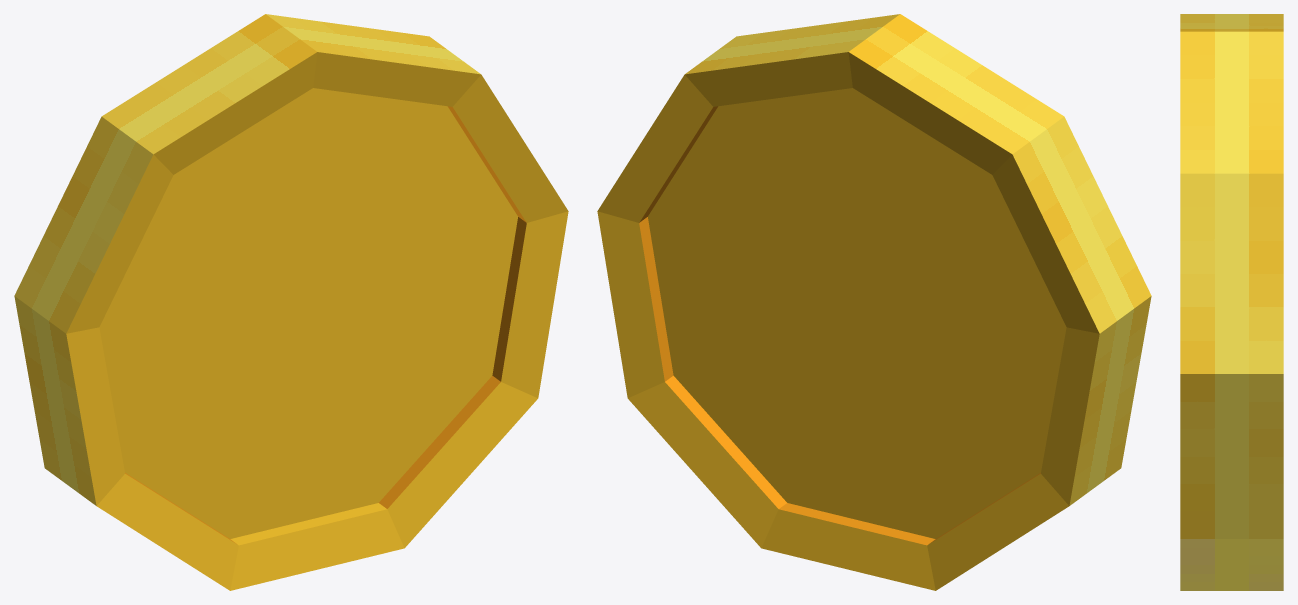
File: COIN_.fbx
3 views of the same model, side by side, from view 1: azimuth 30°, elevation 25°; view 2: azimuth 150°, elevation 25°; view 3: azimuth 270°, elevation 25° (orthographic).
Visible parts, largest first — view 1: cylinder; view 2: cylinder; view 3: cylinder.
Part boxes in pixels (<box>): cylinder: <box>14,14,568,590</box>; cylinder: <box>597,14,1151,590</box>; cylinder: <box>1180,14,1283,590</box>.
Size of the model in its own units: 105 by 103 by 18.75.
Materials: 1 (1 with a texture image).
